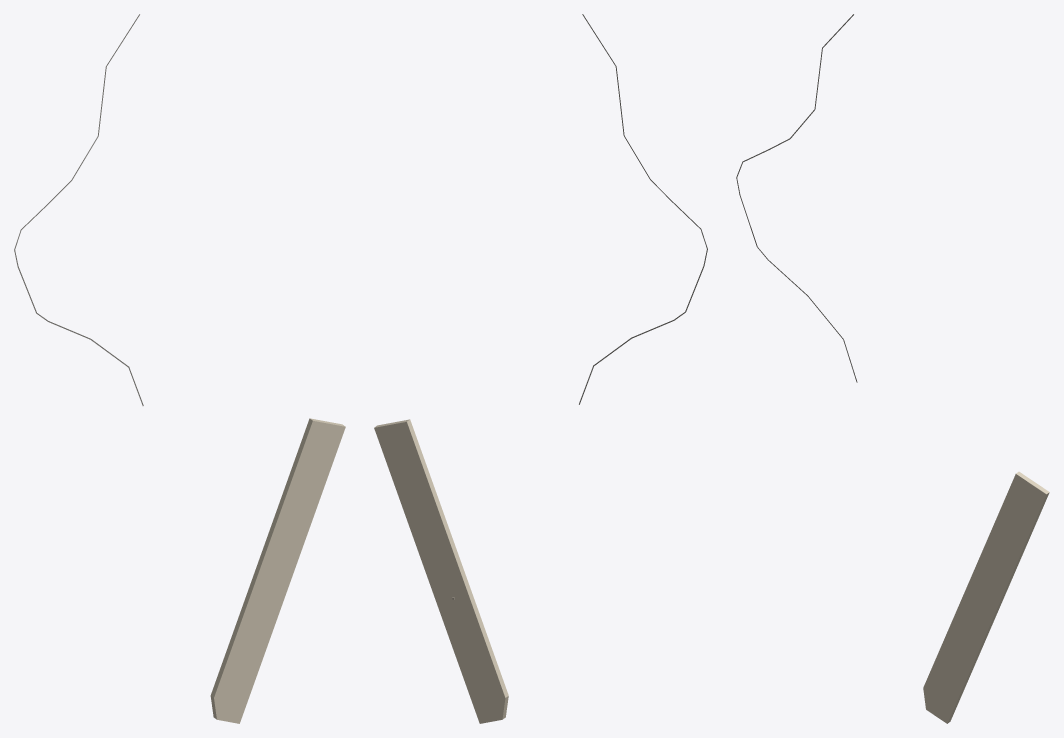
File: zarqa_3614_3210.glb
3 views of the same model, side by side, from view 1: azimuth 30°, elevation 25°; view 2: azimuth 150°, elevation 25°; view 3: azimuth 330°, elevation 25° (orthographic). The views are drawn at different scales.
Parts seen in each view (by area): view 1: Building_, Road; view 2: Building_, Road; view 3: Building_, Road.
Part boxes in pixels (left/top/right/bottom): Building_: left=210, top=418, right=345, bottom=723; Road: left=14, top=14, right=143, bottom=405; Building_: left=374, top=419, right=508, bottom=723; Road: left=579, top=14, right=707, bottom=404; Building_: left=923, top=471, right=1049, bottom=723; Road: left=736, top=14, right=857, bottom=382.
Bounding box in the file's own units: 427 × 902 × 8.7.
